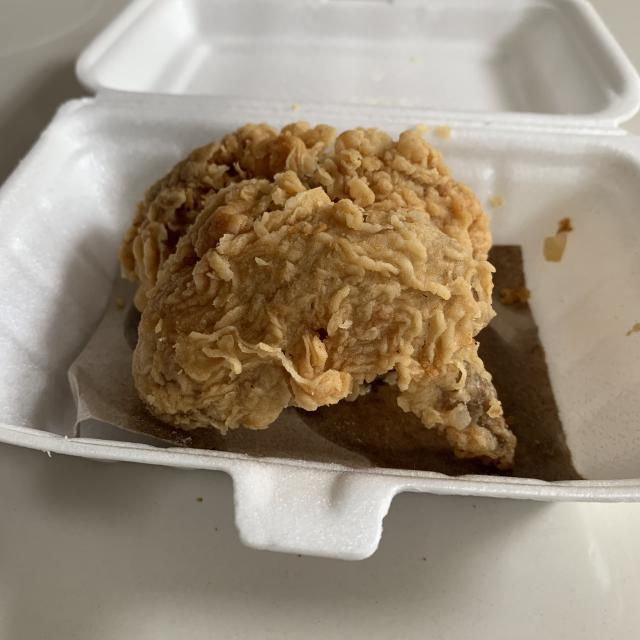Wet Waste: (128, 117, 514, 461)
